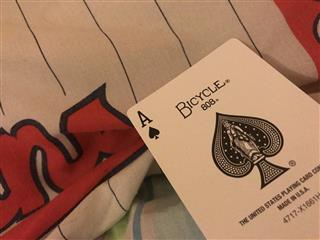AceOfSpades: (126, 37, 320, 240)
